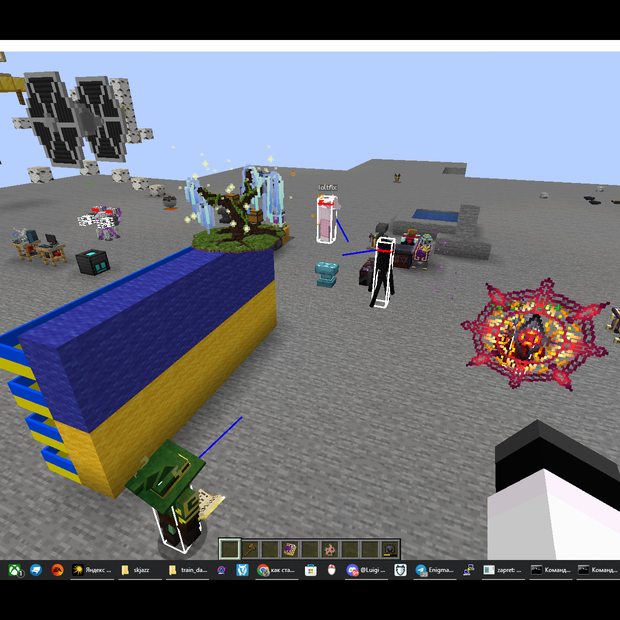target: (146, 477, 202, 554), (369, 236, 396, 309), (316, 195, 340, 244)
